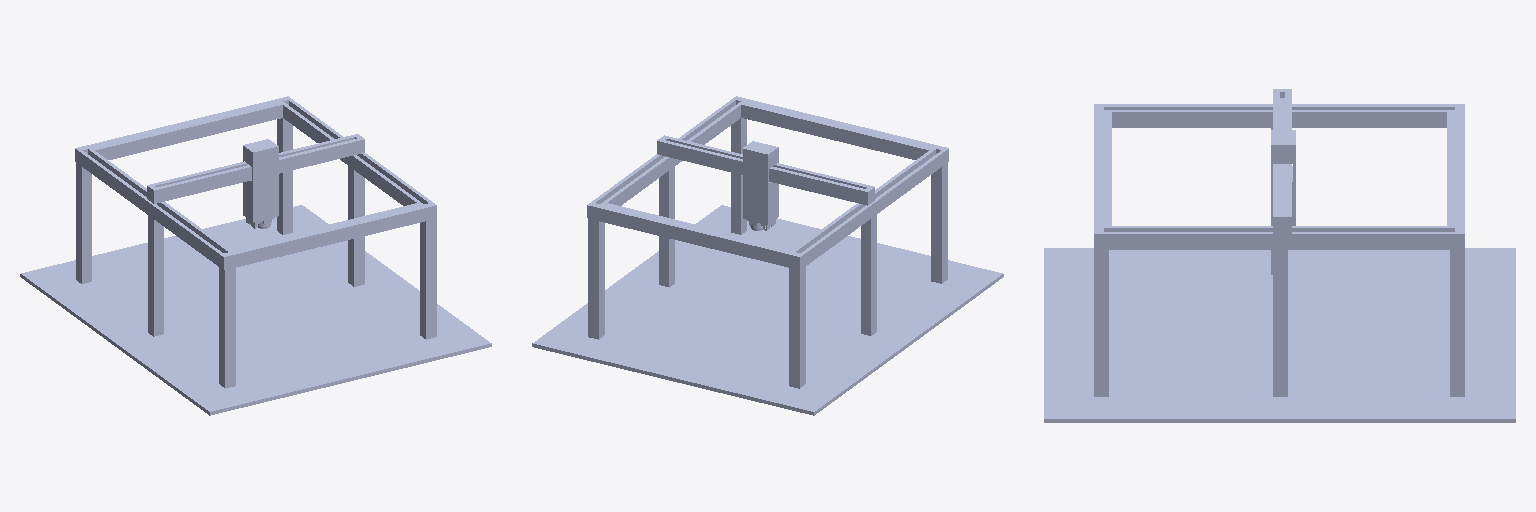
robot.urdf — test8:
<?xml version="1.0" encoding="utf-8"?>
<!-- This URDF was automatically created by SolidWorks to URDF Exporter! Originally created by [author] ([email redacted]) 
     Commit Version: 1.6.0-4-g7f85cfe  Build Version: 1.6.7995.38578
     For more information, please see http://wiki.ros.org/sw_urdf_exporter -->
<robot
  name="test8">
  <link
    name="base_link">
    <inertial>
      <origin
        xyz="4.02864523689272 4.68594983260276 1.12811003412138"
        rpy="0 0 0" />
      <mass
        value="12293.2154089237" />
      <inertia
        ixx="64315.9848906651"
        ixy="4.72802642797358E-12"
        ixz="2.09416082676083E-13"
        iyy="45881.0476516664"
        iyz="-0.00250051596600959"
        izz="107061.453631579" />
    </inertial>
    <visual>
      <origin
        xyz="0 0 0"
        rpy="0 0 0" />
      <geometry>
        <mesh
          filename="package://test8/meshes/base_link.STL" />
      </geometry>
      <material
        name="">
        <color
          rgba="0.792156862745098 0.819607843137255 0.933333333333333 1" />
      </material>
    </visual>
    <collision>
      <origin
        xyz="0 0 0"
        rpy="0 0 0" />
      <geometry>
        <mesh
          filename="package://test8/meshes/base_link.STL" />
      </geometry>
    </collision>
  </link>
  <link
    name="link_1">
    <inertial>
      <origin
        xyz="2.97602476327698 3.54730607280989 0.171527764141937"
        rpy="0 0 0" />
      <mass
        value="740.0303448616" />
      <inertia
        ixx="17.0621024004927"
        ixy="1.75706365425981E-09"
        ixz="0.0020389540811338"
        iyy="2278.62582732281"
        iyz="1.07903806453826E-06"
        izz="2279.87804604228" />
    </inertial>
    <visual>
      <origin
        xyz="0 0 0"
        rpy="0 0 0" />
      <geometry>
        <mesh
          filename="package://test8/meshes/link_1.STL" />
      </geometry>
      <material
        name="">
        <color
          rgba="0.792156862745098 0.819607843137255 0.933333333333333 1" />
      </material>
    </visual>
    <collision>
      <origin
        xyz="0 0 0"
        rpy="0 0 0" />
      <geometry>
        <mesh
          filename="package://test8/meshes/link_1.STL" />
      </geometry>
    </collision>
  </link>
  <joint
    name="joint_1"
    type="prismatic">
    <origin
      xyz="1.0822 1.1917 3.7013"
      rpy="0 0 0" />
    <parent
      link="base_link" />
    <child
      link="link_1" />
    <axis
      xyz="0 1 0" />
    <limit
      lower="0"
      upper="0"
      effort="0"
      velocity="0" />
  </joint>
  <link
    name="link_2">
    <inertial>
      <origin
        xyz="3.01401705569617 0.0679609788498059 -0.693647056913111"
        rpy="0 0 0" />
      <mass
        value="645.325992510265" />
      <inertia
        ixx="213.993771610598"
        ixy="0.000780635487266391"
        ixz="0.122391995606617"
        iyy="227.813506683219"
        iyz="0.000563037885632421"
        izz="42.4394302914655" />
    </inertial>
    <visual>
      <origin
        xyz="0 0 0"
        rpy="0 0 0" />
      <geometry>
        <mesh
          filename="package://test8/meshes/link_2.STL" />
      </geometry>
      <material
        name="">
        <color
          rgba="0.792156862745098 0.819607843137255 0.933333333333333 1" />
      </material>
    </visual>
    <collision>
      <origin
        xyz="0 0 0"
        rpy="0 0 0" />
      <geometry>
        <mesh
          filename="package://test8/meshes/link_2.STL" />
      </geometry>
    </collision>
  </link>
  <joint
    name="joint_2"
    type="prismatic">
    <origin
      xyz="0.10775 3.4953 0.368"
      rpy="0 0 0" />
    <parent
      link="link_1" />
    <child
      link="link_2" />
    <axis
      xyz="-1 0 0" />
    <limit
      lower="0"
      upper="0"
      effort="0"
      velocity="0" />
  </joint>
</robot>

--- What the picture shows (computed from the rendered views, not written in the file) ---
Views: 3 orthographic renders of the robot side by side, from view 1: azimuth 30°, elevation 25°; view 2: azimuth 150°, elevation 25°; view 3: azimuth 270°, elevation 25°.
Robot: test8 — 3 links, 2 joints (2 prismatic); root link base_link; default pose: every joint at zero.
Visible links, largest first — view 1: base_link, link_1, link_2; view 2: base_link, link_1, link_2; view 3: base_link, link_1, link_2.
Boxes of the visible links, x1,y1,x2,y2 form: base_link: (20,96,491,415); link_1: (147,134,364,203); link_2: (243,139,278,228); base_link: (532,96,1003,415); link_1: (657,135,874,205); link_2: (743,141,778,230); base_link: (1044,104,1515,422); link_1: (1273,89,1291,233); link_2: (1271,130,1295,225).
Size in the robot's own frame: 8.06 by 9.38 by 4.48 metres.
3 mesh visuals loaded from 3 distinct referenced files (3 binary STL).